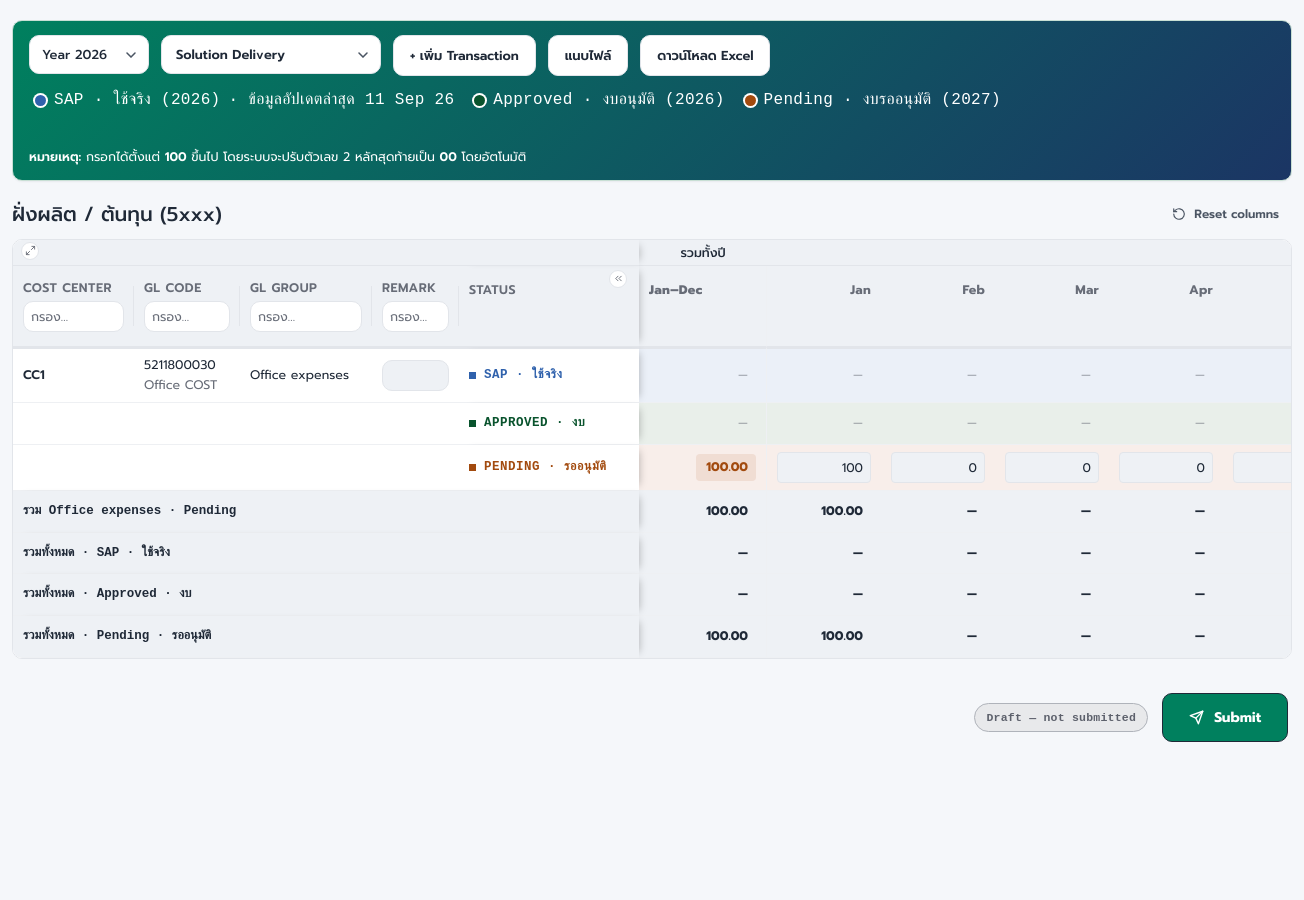
Test: BudgetGrid › a successful Submit flips the grid to read-only immediately, without a page reload
Expected: the field with test id "pending-input-CC1-5211800030-m01" is shown, [777,452,871,483]
Step 1. Click the button with test id "approval-submit-btn" → click(1225, 717), box [1162,693,1288,742]
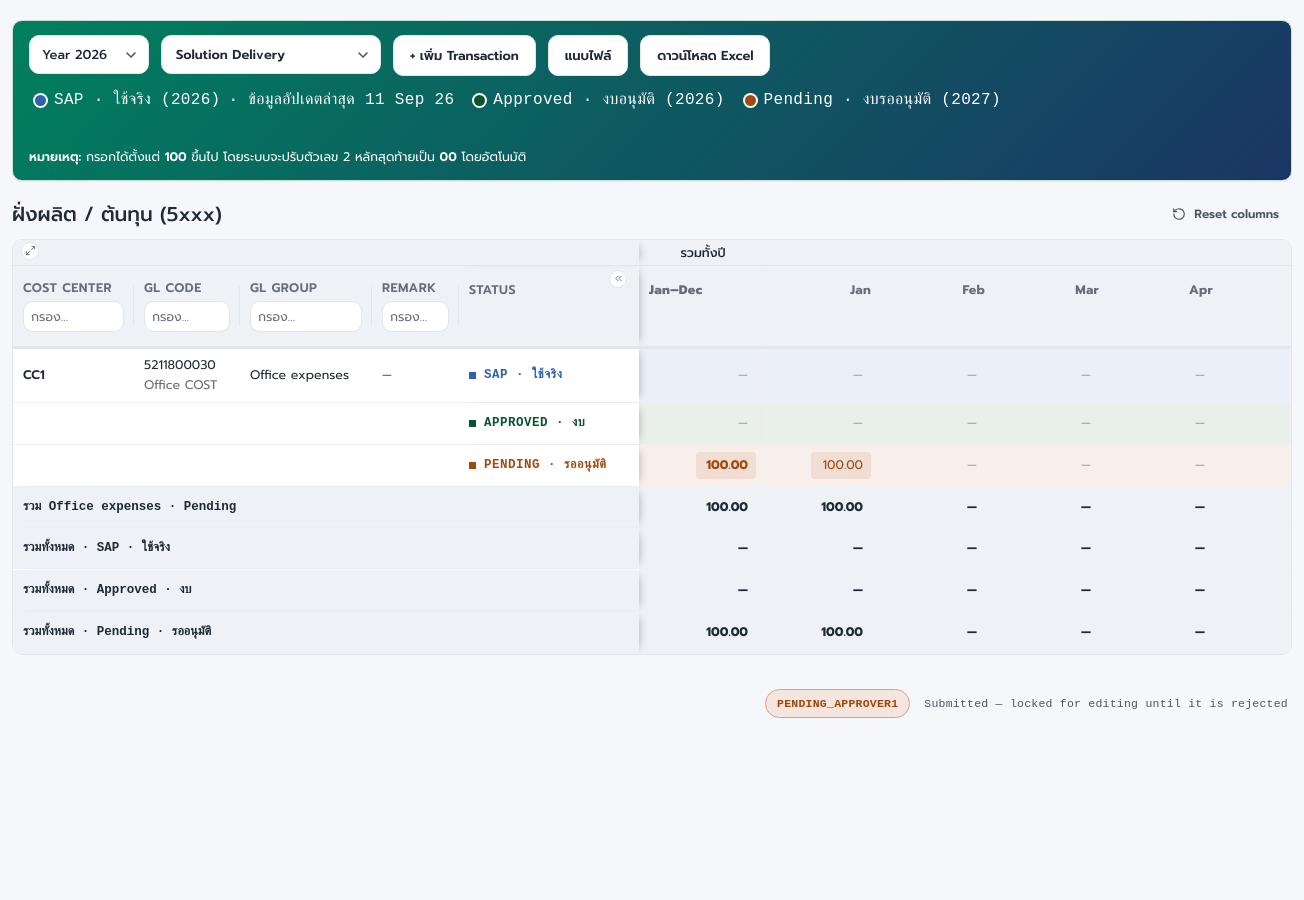
Result: the field with test id "pending-input-CC1-5211800030-m01" is gone
Result: the cell with test id "pending-cell-CC1-5211800030-m01" shows "100" at [822,455,863,474]
